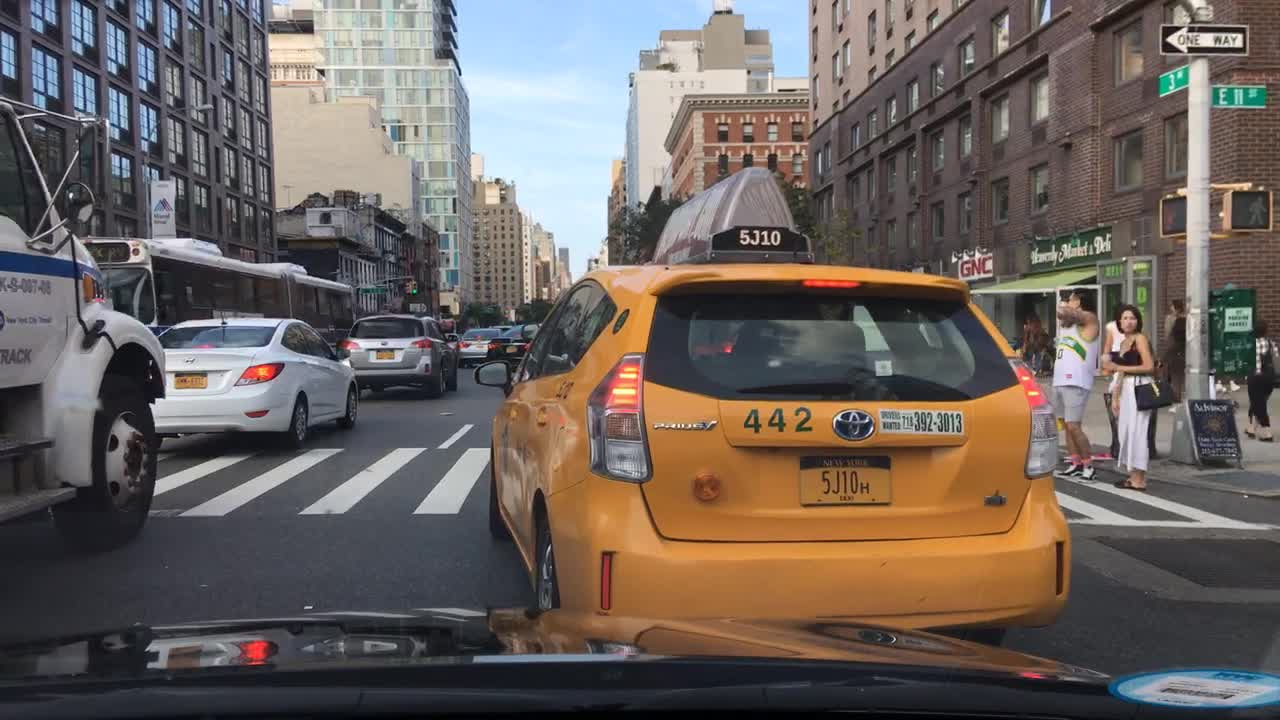bus: (79, 234, 356, 355)
car: (474, 164, 1071, 646), (148, 314, 359, 450), (341, 314, 459, 400), (484, 320, 545, 366), (455, 327, 503, 368), (489, 322, 513, 334)
person: (1097, 302, 1161, 491), (1049, 285, 1098, 482), (1242, 317, 1279, 442), (1157, 317, 1189, 405), (1097, 300, 1124, 393), (1161, 297, 1184, 388), (1022, 307, 1046, 378), (1017, 310, 1029, 359)
traffic light: (1218, 187, 1272, 231), (1157, 192, 1189, 239), (401, 275, 411, 297), (410, 278, 418, 295)
traffic sign: (1157, 23, 1247, 52), (1210, 81, 1265, 104), (1156, 64, 1184, 98), (359, 283, 388, 295)
truck: (0, 93, 167, 550)
